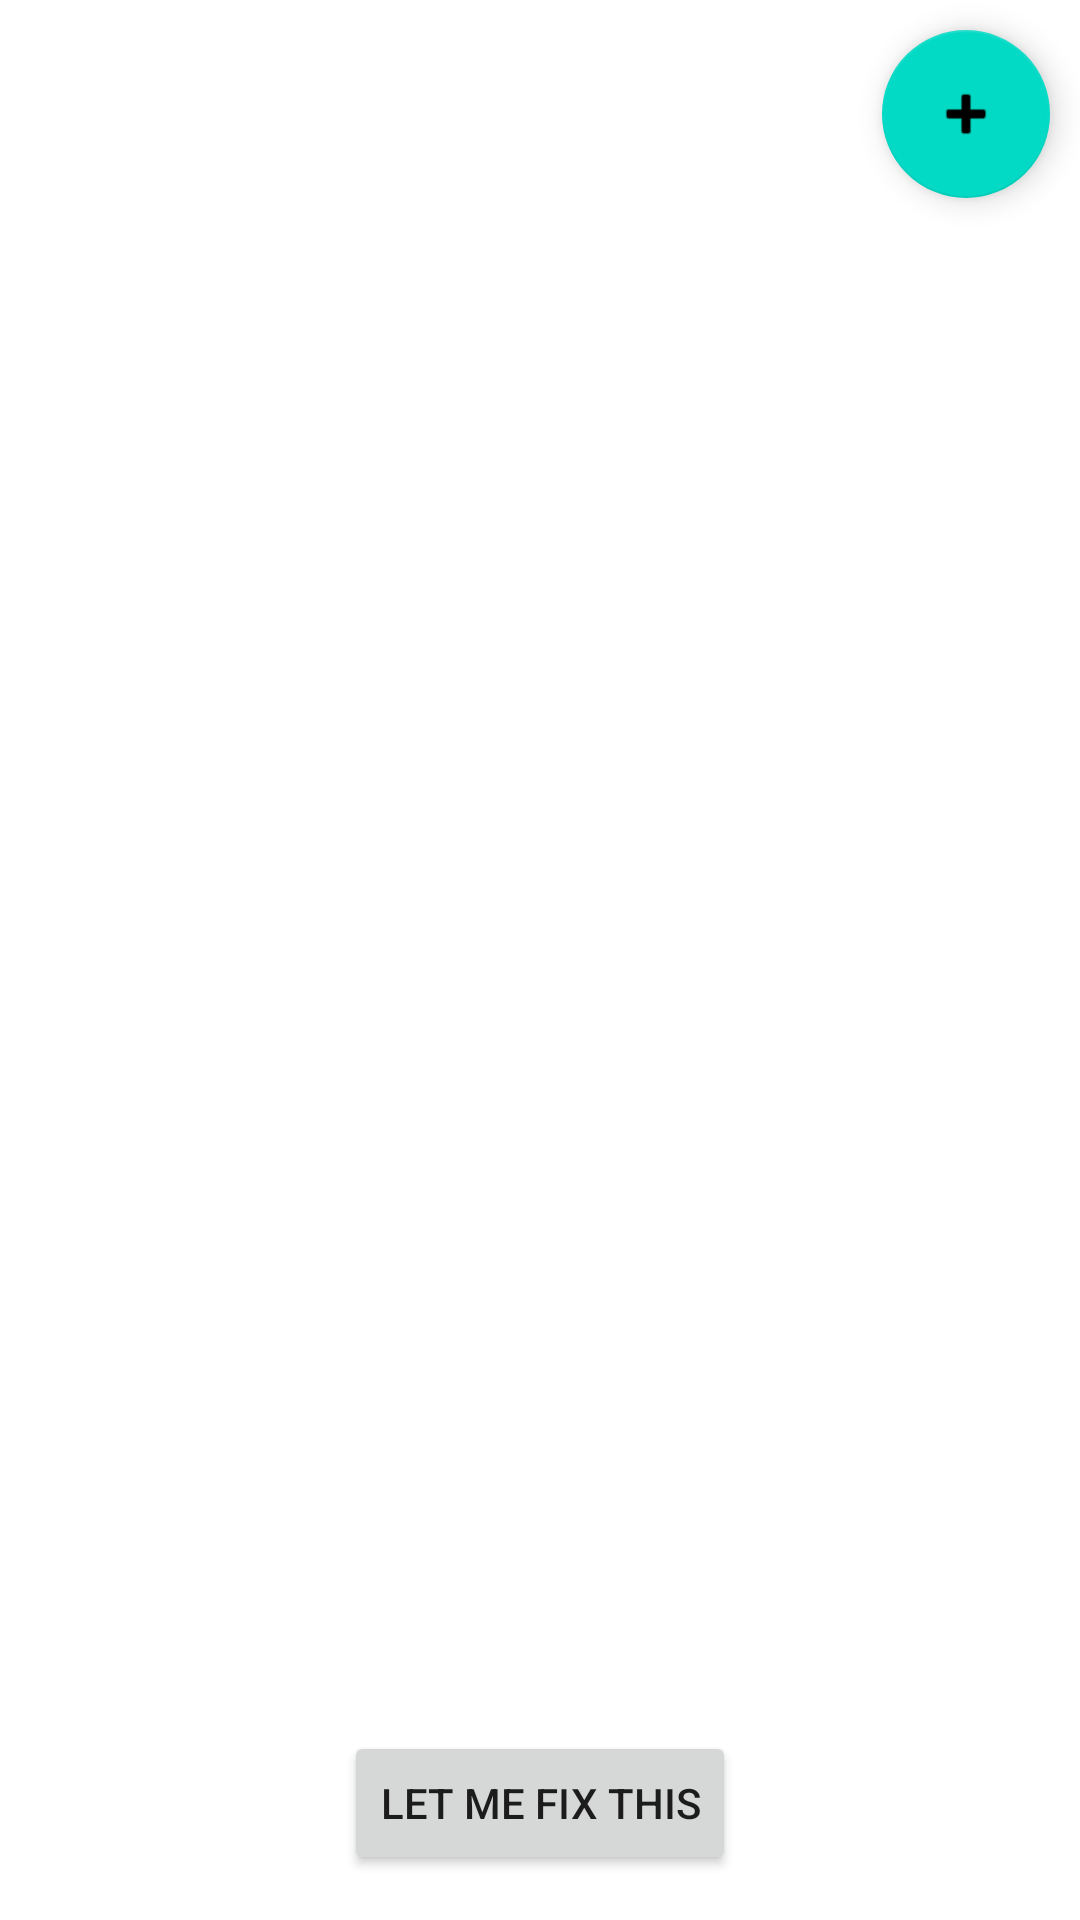

Named icons in this screenshot (1080×1920) and their bounding boxes, (x1, y1, x2, y2):
add: (882, 30, 1050, 198)
